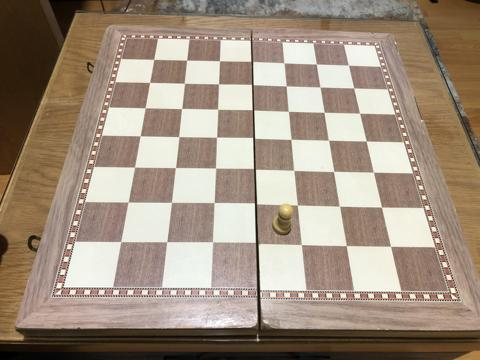xcorner: (315, 82, 328, 94), (284, 106, 296, 119), (324, 135, 336, 148), (172, 132, 185, 144), (329, 167, 342, 179), (165, 198, 177, 211), (344, 60, 356, 72), (312, 59, 324, 71), (279, 58, 291, 70), (247, 57, 259, 69), (214, 56, 226, 68), (181, 55, 193, 67), (148, 54, 160, 66), (349, 83, 361, 95), (281, 81, 293, 93), (247, 80, 259, 92), (213, 79, 225, 91), (178, 78, 190, 90), (144, 77, 156, 89), (355, 108, 367, 120), (320, 107, 332, 119), (248, 106, 260, 118), (212, 105, 224, 117), (176, 104, 188, 116), (139, 103, 151, 115), (362, 136, 374, 148), (287, 135, 299, 147), (249, 134, 261, 146), (211, 133, 223, 145), (134, 131, 146, 143), (369, 168, 381, 180), (290, 166, 302, 178), (250, 165, 262, 177), (210, 164, 222, 176), (169, 163, 181, 175), (128, 162, 140, 174), (377, 203, 389, 215), (335, 202, 347, 214), (293, 201, 305, 213), (251, 200, 263, 212), (208, 199, 220, 211), (122, 198, 134, 210), (386, 242, 398, 254), (342, 241, 354, 253), (297, 240, 309, 252), (252, 240, 264, 252), (207, 239, 219, 251), (161, 238, 173, 250), (115, 237, 127, 249)
